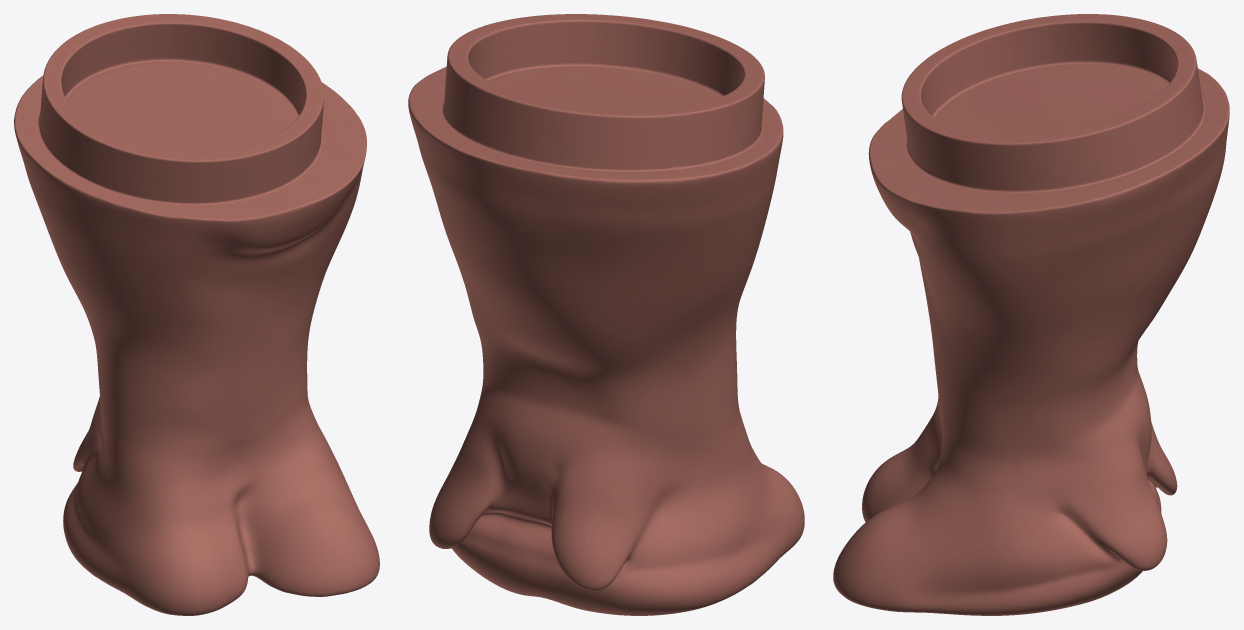
File: Patte_Cochon_lft.glb
3 views of the same model, side by side, from view 1: azimuth 30°, elevation 25°; view 2: azimuth 150°, elevation 25°; view 3: azimuth 270°, elevation 25° (orthographic). The views are drawn at different scales.
Parts seen in each view (by area): view 1: Patte_Pig_lft; view 2: Patte_Pig_lft; view 3: Patte_Pig_lft.
Part boxes in pixels (x1,y1,x2,y2): Patte_Pig_lft: (14, 14, 379, 615); Patte_Pig_lft: (408, 14, 804, 615); Patte_Pig_lft: (833, 14, 1229, 615).
Size of the model in its own units: 1.51 by 2.26 by 1.65.
